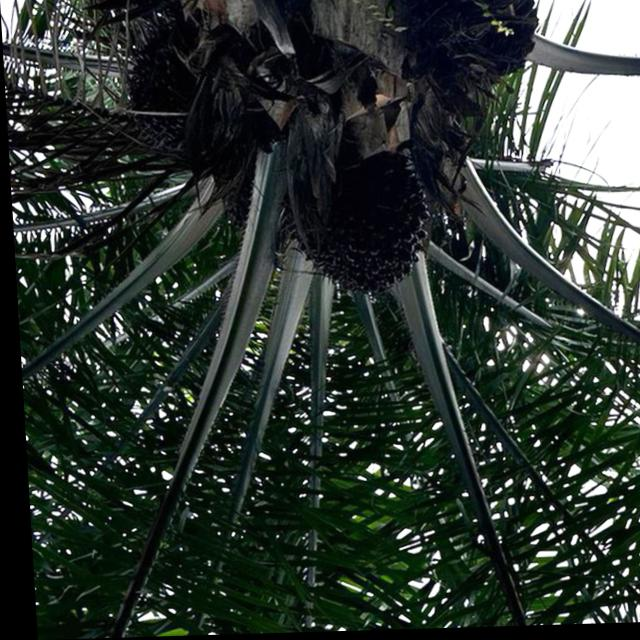ripe: (283, 156, 439, 313)
